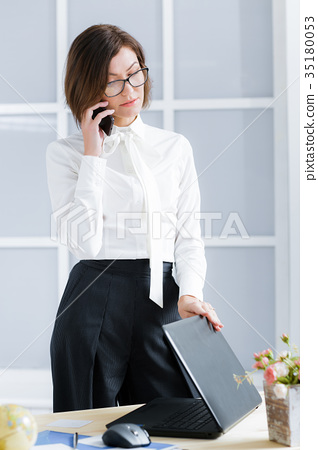phone: (83, 91, 118, 134)
talk: (77, 57, 148, 140)
